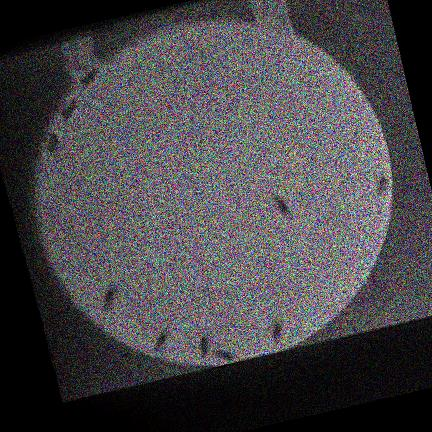fly: (101, 285, 116, 312), (78, 69, 96, 90), (60, 100, 76, 123), (153, 331, 168, 353), (273, 196, 289, 215), (212, 349, 235, 362), (199, 332, 209, 359), (46, 133, 58, 155), (271, 318, 281, 344), (376, 176, 387, 196)
